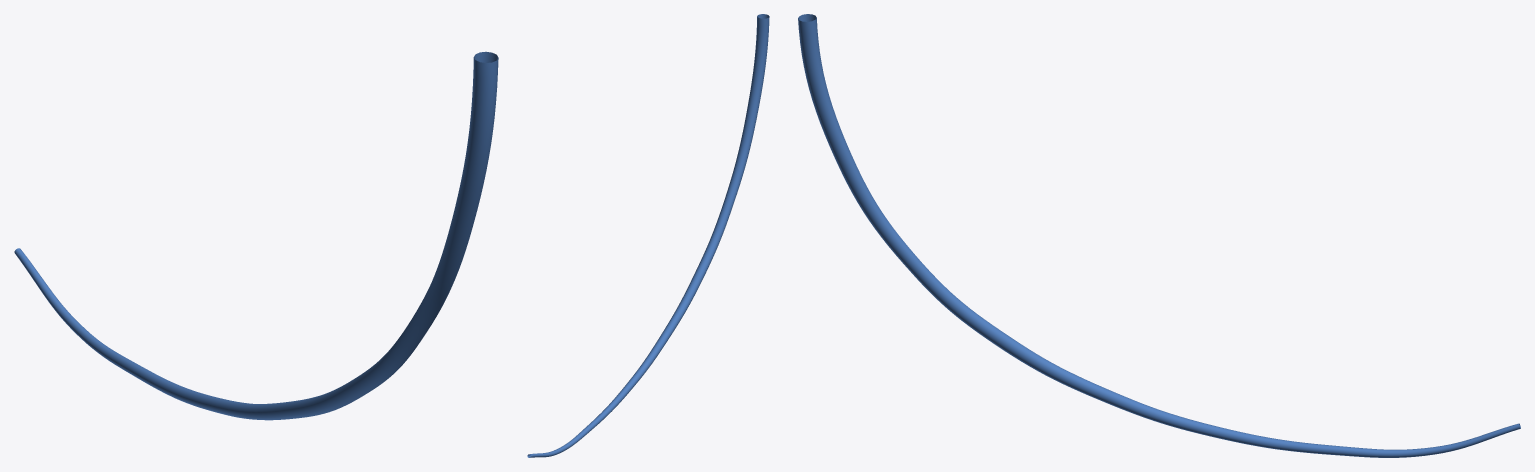
3 renders of one model, left to right at view 1: azimuth 30°, elevation 25°; view 2: azimuth 150°, elevation 25°; view 3: azimuth 270°, elevation 25°, orthographic. The views are drawn at different scales.
Visible parts, largest first — view 1: 阴茎背浅静脉; view 2: 阴茎背浅静脉; view 3: 阴茎背浅静脉.
Boxes of the visible parts, x1,y1,x2,y2 form: 阴茎背浅静脉: (14,51,498,420); 阴茎背浅静脉: (527,14,769,457); 阴茎背浅静脉: (798,14,1520,457).
Bounding box in the file's own units: 0.00295 × 0.0759 × 0.113.
